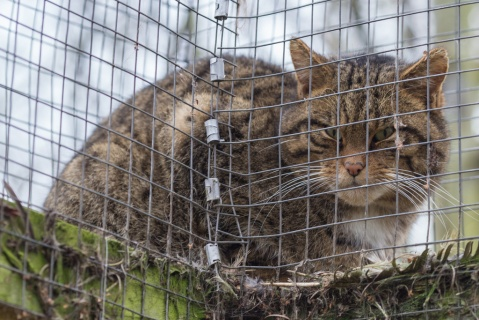Cat: (37, 32, 479, 281)
